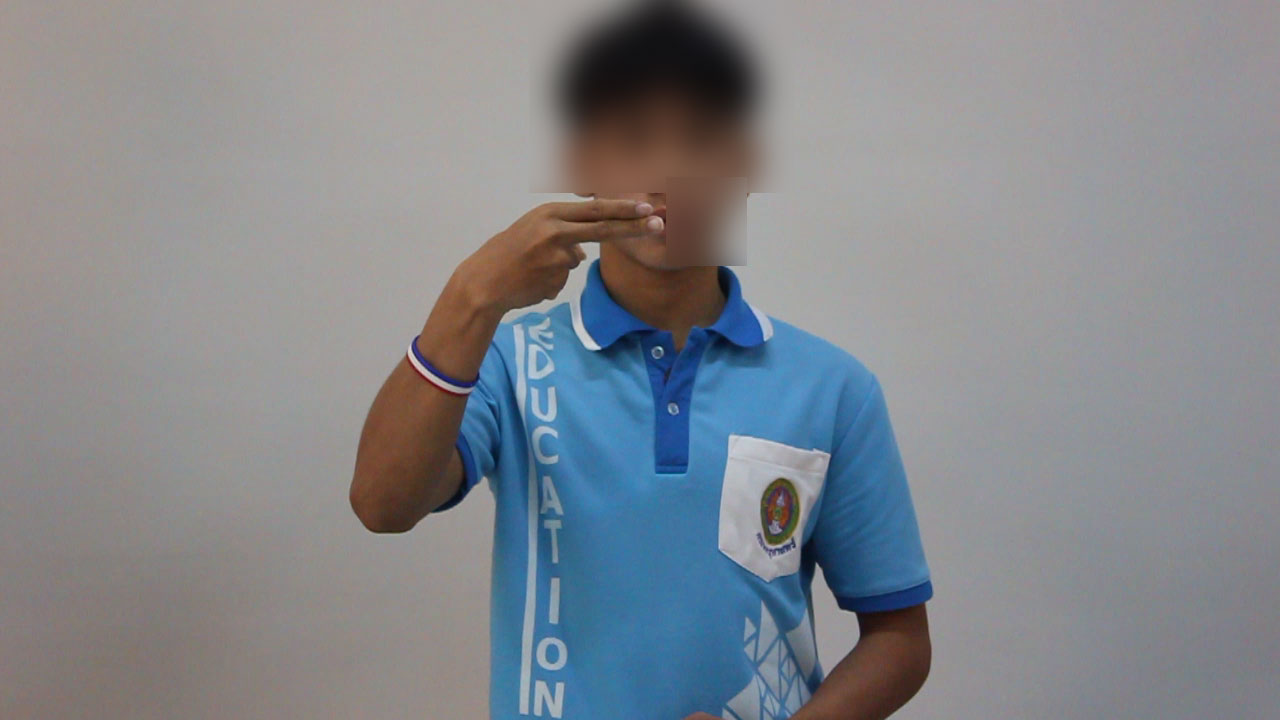hor: (484, 191, 675, 313)
